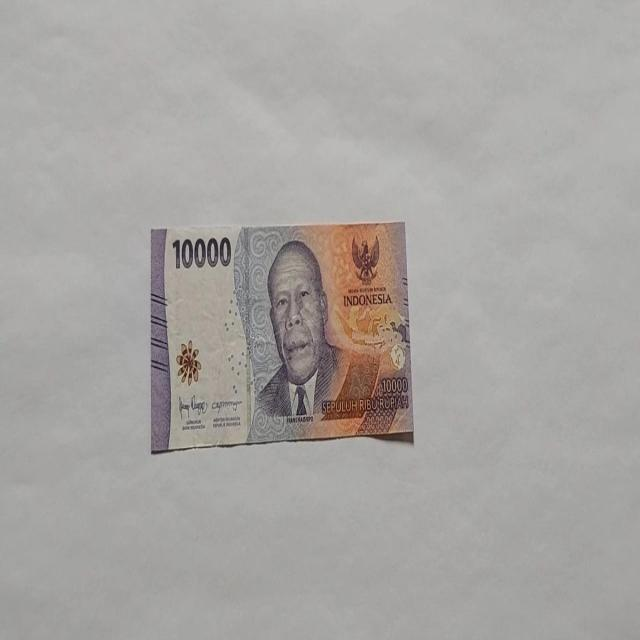Kertas: (150, 220, 414, 453), (171, 234, 232, 270)
